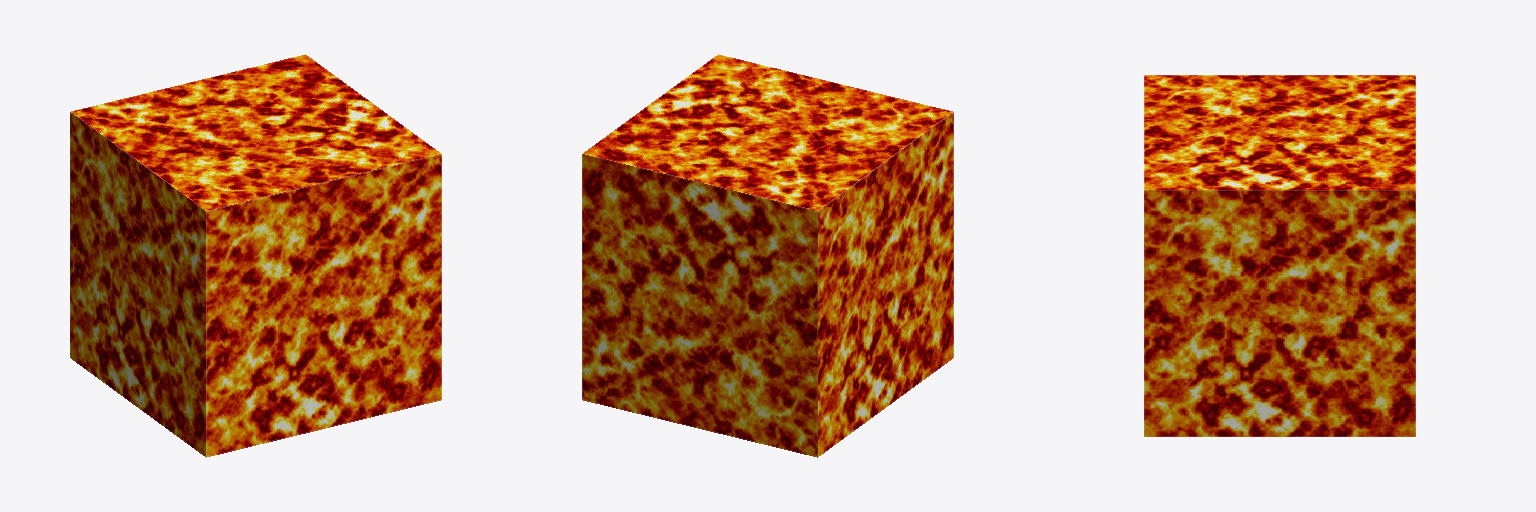
3 renders of one model, left to right at view 1: azimuth 30°, elevation 25°; view 2: azimuth 150°, elevation 25°; view 3: azimuth 270°, elevation 25°, orthographic.
Parts seen in each view (by area): view 1: Cube; view 2: Cube; view 3: Cube.
Part boxes in pixels (left/top/right/bottom): Cube: left=70, top=54, right=441, bottom=457; Cube: left=582, top=54, right=953, bottom=457; Cube: left=1144, top=75, right=1415, bottom=436.
Bounding box in the file's own units: 2 × 2 × 2.
1 materials, 1 textured.